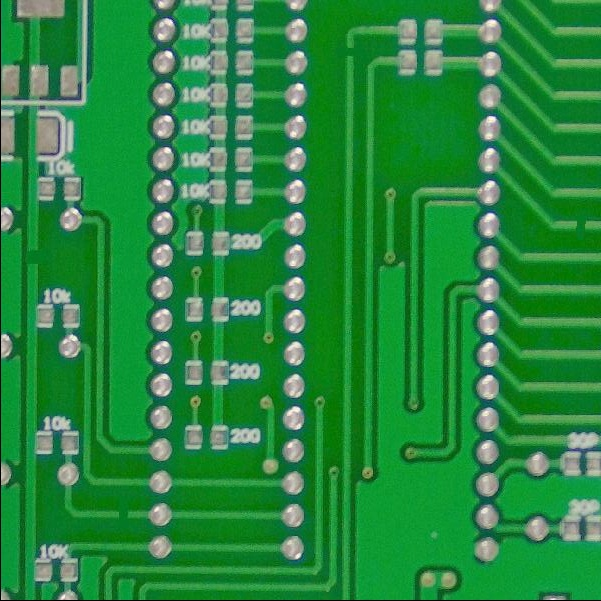open_circuit: (21, 244, 45, 269), (568, 218, 588, 235), (341, 43, 358, 61), (113, 508, 132, 522)
